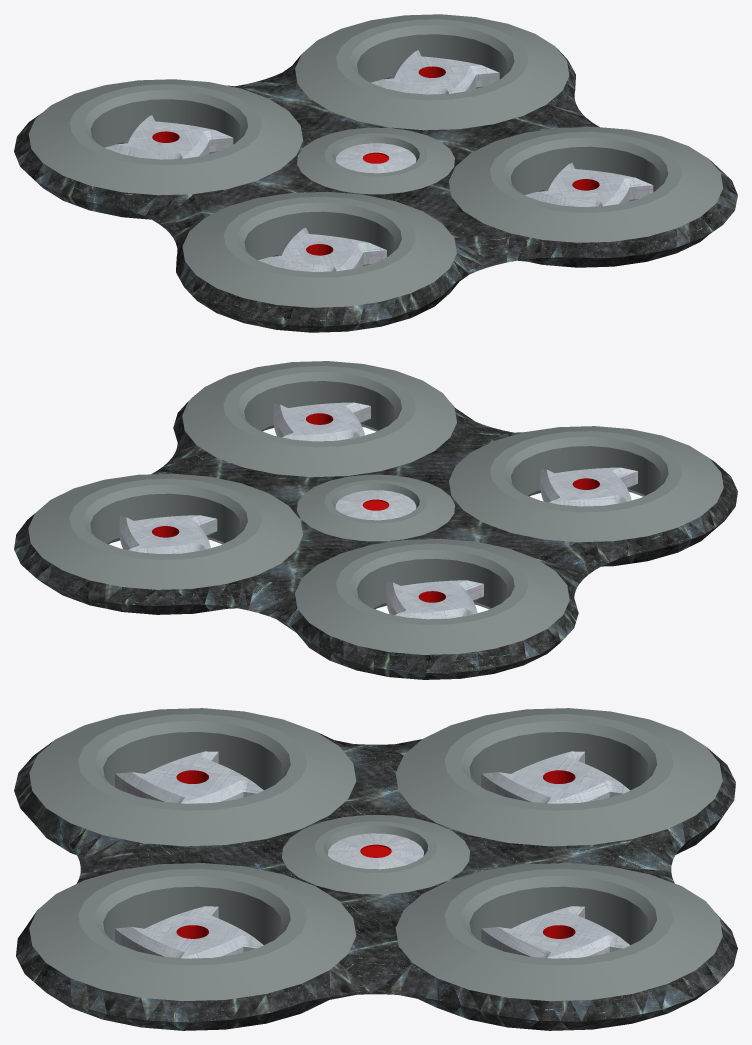
File: 瞬身飞碟[载具]贴图版.fbx
3 views of the same model, one above another, from view 1: azimuth 30°, elevation 25°; view 2: azimuth 150°, elevation 25°; view 3: azimuth 270°, elevation 25° (orthographic). The views are drawn at different scales.
Visible parts, largest first — view 1: Group2, Group10, Group6, Group8, Group4, Group9, Group3, Group5, Group7; view 2: Group2, Group10, Group6, Group4, Group8, Group9, Group5, Group7, Group3; view 3: Group2, Group4, Group6, Group10, Group8, Group9, Group5, Group3, Group7.
Boxes of the visible parts, bbox=[...] form: Group2: bbox=[14, 48, 737, 332]; Group10: bbox=[295, 14, 569, 130]; Group6: bbox=[182, 191, 456, 307]; Group8: bbox=[448, 126, 723, 242]; Group4: bbox=[28, 79, 303, 195]; Group9: bbox=[370, 50, 499, 94]; Group3: bbox=[104, 115, 233, 159]; Group5: bbox=[258, 227, 386, 271]; Group7: bbox=[524, 163, 653, 206]; Group2: bbox=[14, 391, 737, 679]; Group10: bbox=[28, 473, 302, 589]; Group6: bbox=[449, 426, 723, 542]; Group4: bbox=[295, 538, 569, 654]; Group8: bbox=[182, 361, 456, 477]; Group9: bbox=[119, 515, 217, 553]; Group5: bbox=[540, 467, 637, 506]; Group7: bbox=[273, 402, 370, 441]; Group3: bbox=[386, 580, 483, 619]; Group2: bbox=[14, 732, 737, 1030]; Group4: bbox=[395, 708, 722, 846]; Group6: bbox=[29, 708, 356, 846]; Group10: bbox=[395, 863, 722, 1001]; Group8: bbox=[29, 863, 356, 1001]; Group9: bbox=[481, 906, 629, 958]; Group5: bbox=[115, 751, 263, 803]; Group3: bbox=[481, 751, 629, 803]; Group7: bbox=[115, 906, 263, 958].
Size of the model in its own units: 88.37 by 8 by 88.37.
